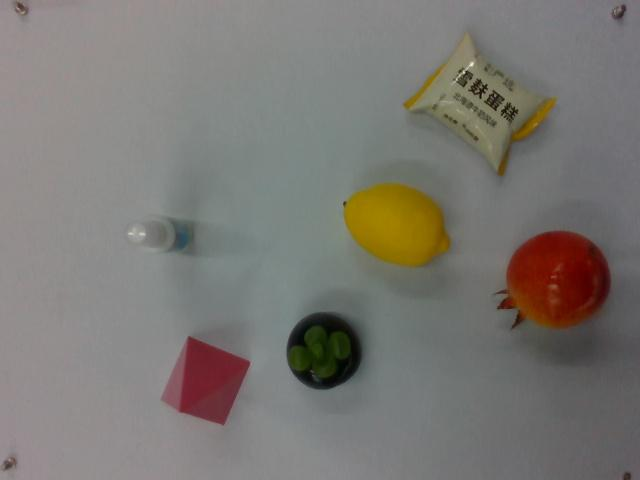dessert: (410, 31, 555, 173)
detergent: (124, 214, 192, 259)
lemon: (342, 181, 451, 269)
mangosteen: (284, 308, 365, 394)
pomegranate: (498, 229, 612, 338)
pyramid: (158, 334, 253, 431)
